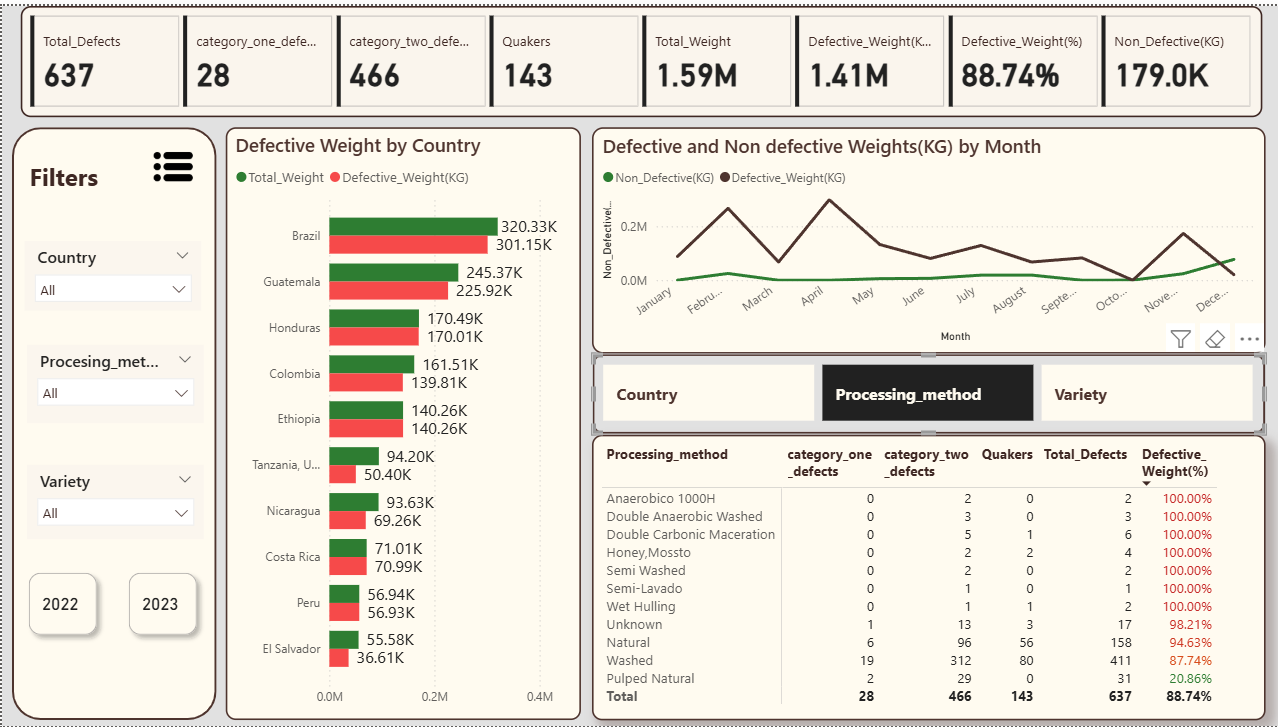

The page's visual inventory and layout, read from the dashboard file:
{"tool":"powerbi","page":{"name":"origin and defects impact","canvas":[1280,720],"ordinal":2},"visuals":[{"type":"shape","box":[9.6,120.8,204.5,592.8],"z":0},{"type":"advancedSlicerVisual","fields":{"Values":["DimDate.Date.Variation.Date Hierarchy.Year"]},"box":[9.8,550.3,204.2,96.6],"z":1000},{"type":"slicer","fields":{"Values":["dim_country.country_of_origin"]},"box":[22,234.6,177,70],"z":2000},{"type":"slicer","fields":{"Values":["dim_processing_method.processing_method"]},"box":[24.7,338.9,177,78.2],"z":3000},{"type":"slicer","fields":{"Values":["dim_variety.variety"]},"box":[24.7,458.3,177,74.1],"z":4000},{"type":"textbox","box":[22,149.6,137.2,52.1],"z":5000},{"type":"clusteredBarChart","title":"Defective Weight by Country","fields":{"Y":["All_measures.Total_Weight","All_measures.Defective_Weight"],"Category":["dim_country.country_of_origin","dim_processing_method.processing_method"]},"box":[223.7,120.8,355.4,592.8],"z":6000},{"type":"cardVisual","fields":{"Data":["All_measures.Total_Defects","All_measures.category_one_defects","All_measures.category_two_defects","All_measures.Quakers","All_measures.Total_Weight","All_measures.Defective_Weight","All_measures.pct_Defective_Weight","All_measures.producable_coffee"]},"box":[22,0,1241.9,111.1],"z":7000},{"type":"lineChart","fields":{"Y":["All_measures.producable_coffee","All_measures.Defective_Weight"],"Category":["DimDate.Date.Variation.Date Hierarchy.Month"]},"box":[590.1,120.8,673.8,226.4],"z":8000},{"type":"pivotTable","fields":{"Rows":["dim_country.country_of_origin"],"Values":["All_measures.category_one_defects","All_measures.category_two_defects","All_measures.Quakers","All_measures.Total_Defects","All_measures.Defective_Weight(%)"]},"box":[590.1,428.1,673.8,285.4],"z":9000},{"type":"advancedSlicerVisual","fields":{"Values":["Parameter.Parameter"]},"box":[590.1,347.2,673.8,81],"z":10000},{"type":"image","title":"open","box":[141.7,135.9,59.3,49.2],"z":12000}]}

Visuals, with their boxes in screenshot pixels (x1, y1, x2, y2), scaled from the page's 1280x720 canvas onto the 1278x727 screenshot:
shape: <region>10, 122, 214, 721</region>
advancedSlicerVisual - DimDate.Date.Variation.Date Hierarchy.Year: <region>10, 556, 214, 653</region>
slicer - dim_country.country_of_origin: <region>22, 237, 199, 308</region>
slicer - dim_processing_method.processing_method: <region>25, 342, 201, 421</region>
slicer - dim_variety.variety: <region>25, 463, 201, 538</region>
textbox: <region>22, 151, 159, 204</region>
"Defective Weight by Country" clusteredBarChart: <region>223, 122, 578, 721</region>
cardVisual - All_measures.Total_Defects x All_measures.category_one_defects: <region>22, 0, 1262, 112</region>
lineChart - All_measures.producable_coffee x All_measures.Defective_Weight: <region>589, 122, 1262, 351</region>
pivotTable - dim_country.country_of_origin x All_measures.category_one_defects: <region>589, 432, 1262, 720</region>
advancedSlicerVisual - Parameter.Parameter: <region>589, 351, 1262, 432</region>
"open" image: <region>141, 137, 201, 187</region>
